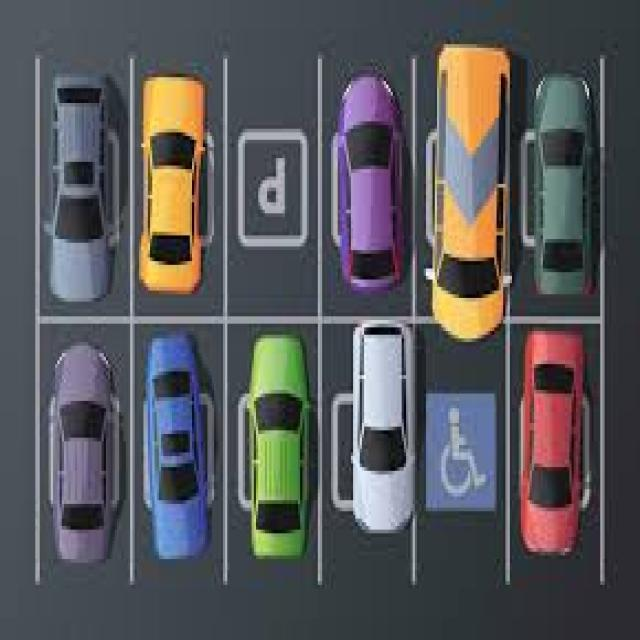discapacitados: (418, 325, 508, 590)
libre: (234, 42, 317, 311)
ocupado: (37, 46, 228, 584), (325, 38, 606, 320), (234, 320, 416, 575), (514, 328, 597, 585)
